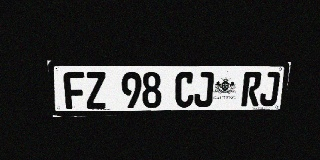8: (142, 72, 162, 108)
9: (121, 72, 141, 108)
C: (175, 72, 195, 107)
F: (63, 72, 86, 109)
J: (259, 72, 280, 106), (194, 72, 214, 107)
R: (241, 72, 262, 106)
Z: (85, 72, 107, 109)
